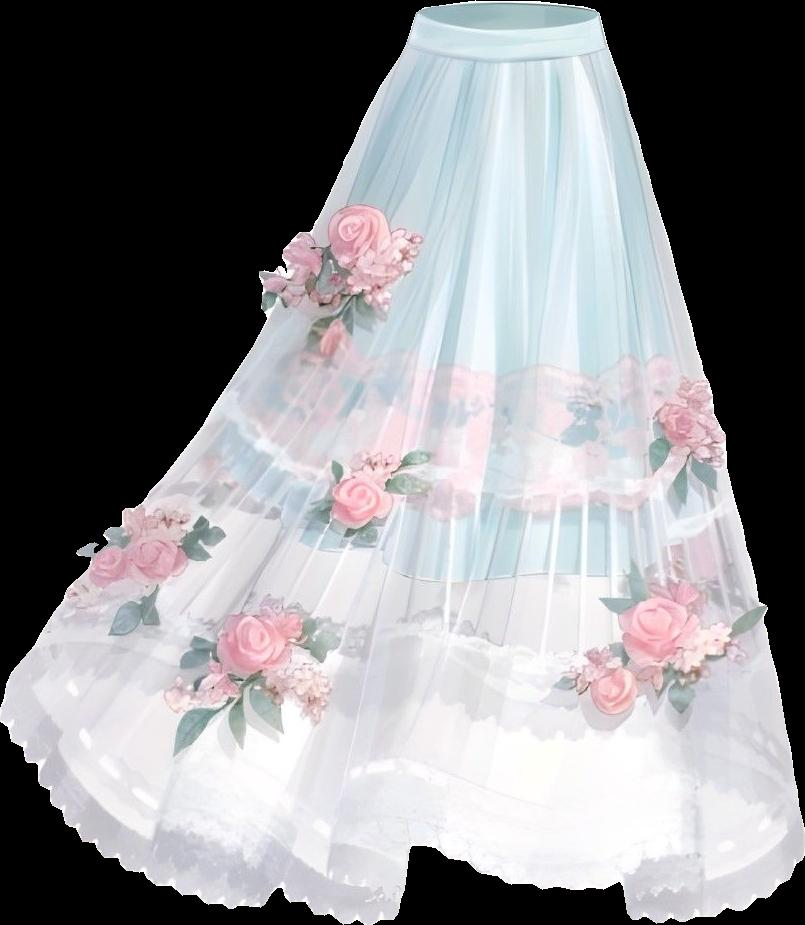Hemline: (0, 684, 804, 924), (199, 423, 740, 586)
Waistline: (398, 40, 610, 69), (412, 6, 604, 38)
